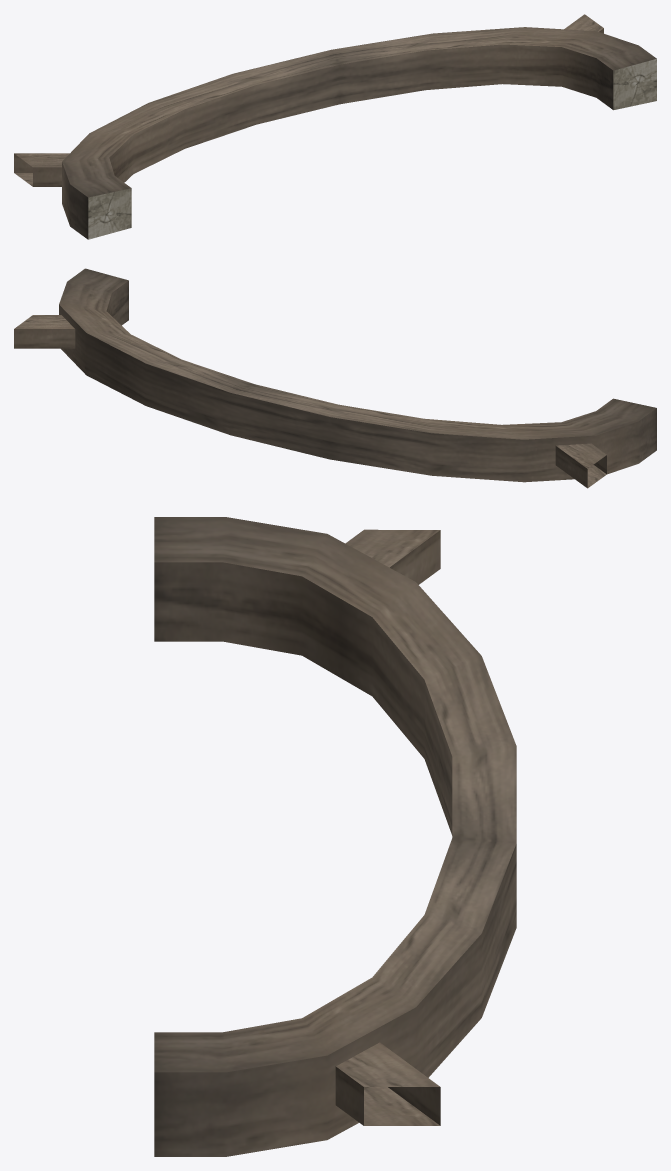
The model's file is Arch_A.fbx.
The picture shows the model from 3 angles, top to bottom: view 1: azimuth 30°, elevation 25°; view 2: azimuth 150°, elevation 25°; view 3: azimuth 270°, elevation 25°; orthographic projection. The views are drawn at different scales.
Visible parts, largest first — view 1: Arch_A; view 2: Arch_A; view 3: Arch_A.
Boxes of the visible parts, x1,y1,x2,y2 form: Arch_A: [14, 14, 656, 239]; Arch_A: [14, 268, 656, 488]; Arch_A: [154, 517, 516, 1156].
Size of the model in its own units: 2.46 by 0.1738 by 0.6753.
